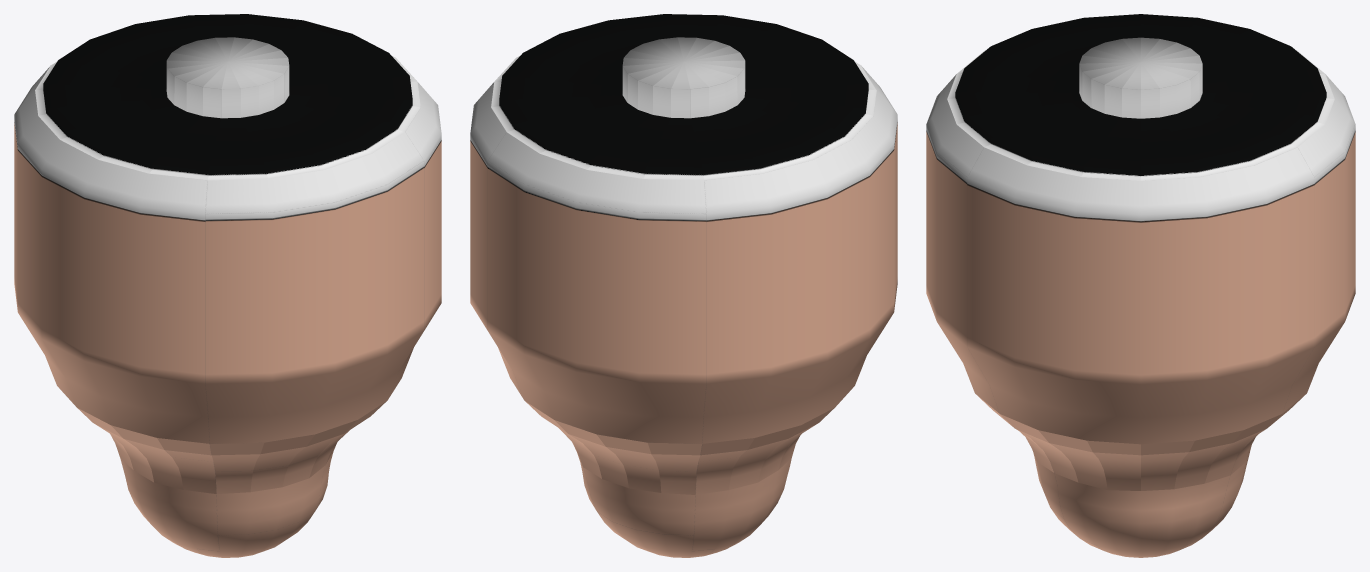
File: ElbowCustom_Upper.fbx
3 views of the same model, side by side, from view 1: azimuth 30°, elevation 25°; view 2: azimuth 150°, elevation 25°; view 3: azimuth 270°, elevation 25° (orthographic).
Parts seen in each view (by area): view 1: pSphere2; view 2: pSphere2; view 3: pSphere2.
Part boxes in pixels (x1,y1,x2,y2): pSphere2: (14, 14, 441, 557); pSphere2: (470, 14, 897, 557); pSphere2: (926, 14, 1355, 557).
Bounding box in the file's own units: 8 × 9.99 × 8.
1 material, 1 textured.
